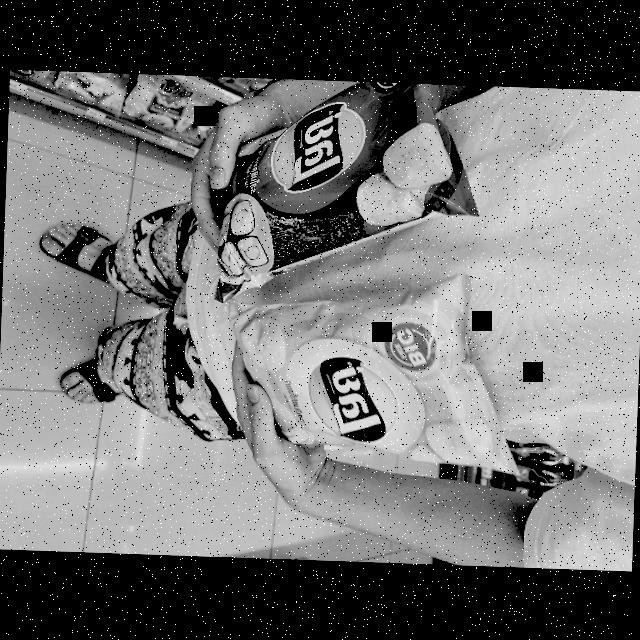snack_bag: (237, 260, 528, 490), (213, 76, 482, 318)
